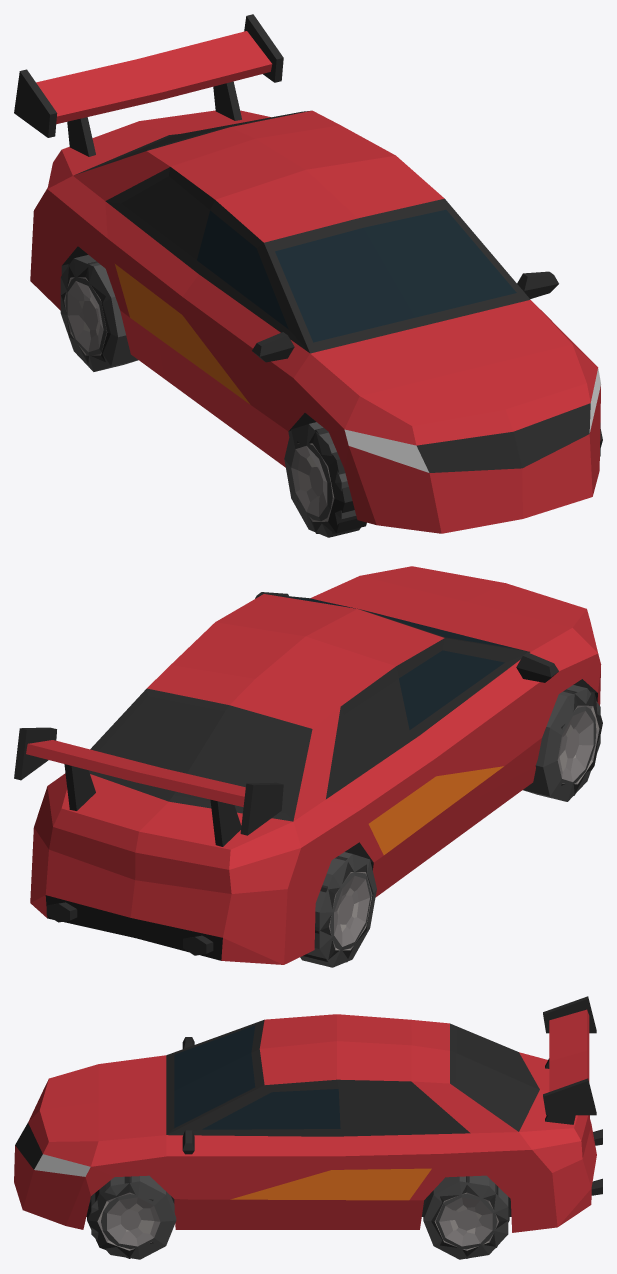
The model's file is car.glb.
3 renders of one model, top to bottom at view 1: azimuth 30°, elevation 25°; view 2: azimuth 150°, elevation 25°; view 3: azimuth 270°, elevation 25°, orthographic. The views are drawn at different scales.
Visible parts, largest first — view 1: car-passenger-race-base, car-passenger-wheel_BR, car-passenger-wheel_FR, car-passenger-race-wheel_FR, car-passenger-race-wheel_BR; view 2: car-passenger-race-base, car-passenger-wheel_FR, car-passenger-wheel_BR, car-passenger-race-wheel_BR, car-passenger-race-wheel_FR; view 3: car-passenger-race-base, car-passenger-wheel_BL, car-passenger-wheel_FL, car-passenger-race-wheel_FL, car-passenger-race-wheel_BL.
Boxes of the visible parts, left/top/right/bottom form: car-passenger-race-base: left=14, top=14, right=600, bottom=533; car-passenger-wheel_BR: left=60, top=255, right=138, bottom=371; car-passenger-wheel_FR: left=284, top=422, right=360, bottom=537; car-passenger-race-wheel_FR: left=297, top=428, right=366, bottom=533; car-passenger-race-wheel_BR: left=61, top=261, right=110, bottom=364; car-passenger-race-base: left=14, top=566, right=601, bottom=964; car-passenger-wheel_FR: left=523, top=685, right=600, bottom=801; car-passenger-wheel_BR: left=300, top=852, right=376, bottom=967; car-passenger-race-wheel_BR: left=303, top=856, right=373, bottom=962; car-passenger-race-wheel_FR: left=559, top=689, right=602, bottom=795; car-passenger-race-base: left=14, top=996, right=602, bottom=1232; car-passenger-wheel_BL: left=423, top=1175, right=508, bottom=1259; car-passenger-wheel_FL: left=91, top=1175, right=176, bottom=1259; car-passenger-race-wheel_FL: left=87, top=1176, right=153, bottom=1258; car-passenger-race-wheel_BL: left=431, top=1176, right=509, bottom=1258.
Size of the model in its own units: 2.1 by 1.57 by 4.81.
